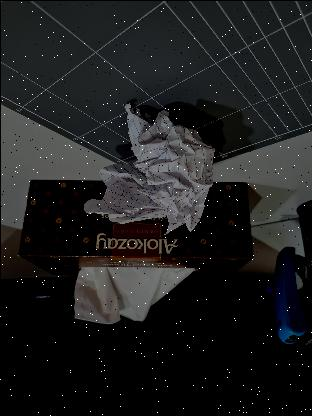Others: (84, 110, 222, 226)
